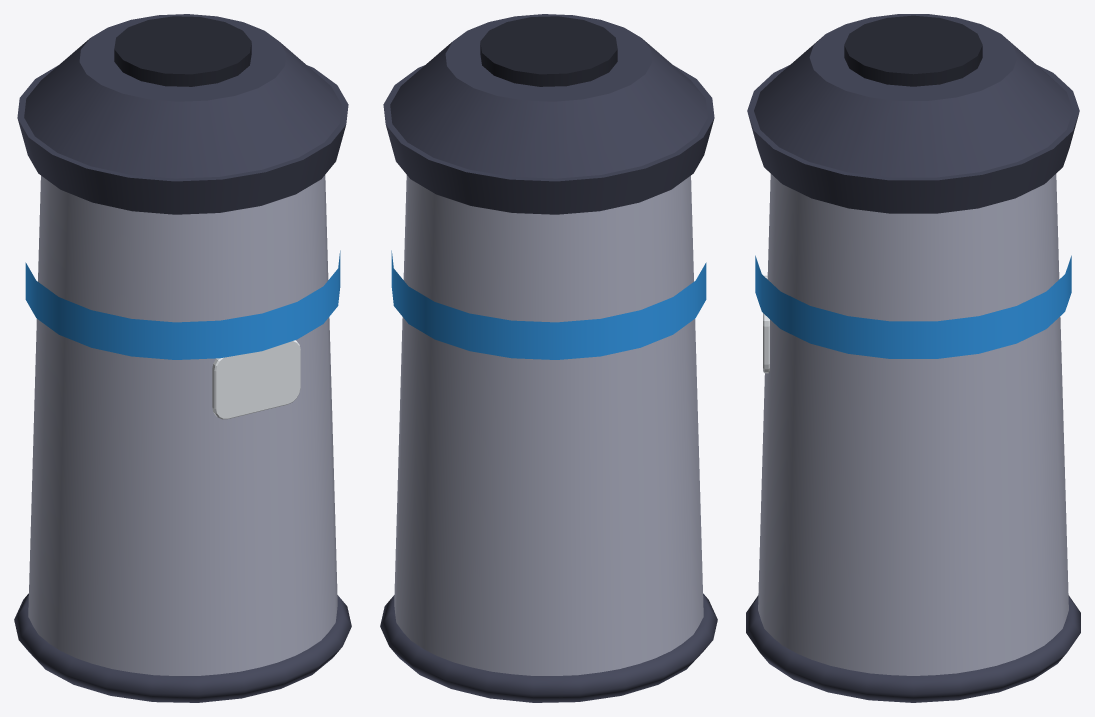
The model's file is trash_can.glb.
3 renders of one model, left to right at view 1: azimuth 30°, elevation 25°; view 2: azimuth 150°, elevation 25°; view 3: azimuth 270°, elevation 25°, orthographic.
Visible parts, largest first — view 1: bin_body, bin_lid_dome, bin_lid_ring, bin_accent_band, bin_base_ring, bin_aperture, bin_label; view 2: bin_body, bin_lid_dome, bin_lid_ring, bin_accent_band, bin_base_ring, bin_aperture; view 3: bin_body, bin_lid_dome, bin_lid_ring, bin_accent_band, bin_base_ring, bin_aperture.
Part boxes in pixels (<box>): bin_body: <box>28,175,337,675</box>; bin_lid_dome: <box>24,14,341,178</box>; bin_lid_ring: <box>17,65,348,214</box>; bin_accent_band: <box>25,250,340,359</box>; bin_base_ring: <box>14,593,351,702</box>; bin_aperture: <box>114,16,251,86</box>; bin_label: <box>212,340,300,419</box>; bin_body: <box>394,175,703,675</box>; bin_lid_dome: <box>390,14,707,178</box>; bin_lid_ring: <box>383,65,714,214</box>; bin_accent_band: <box>391,250,706,359</box>; bin_base_ring: <box>380,593,717,702</box>; bin_aperture: <box>480,16,617,86</box>; bin_body: <box>758,174,1068,675</box>; bin_lid_dome: <box>754,14,1072,177</box>; bin_lid_ring: <box>747,65,1079,213</box>; bin_accent_band: <box>755,255,1071,358</box>; bin_base_ring: <box>746,595,1080,702</box>; bin_aperture: <box>844,15,982,86</box>.
Bounding box in the file's own units: 0.488 × 0.9409 × 0.483.
